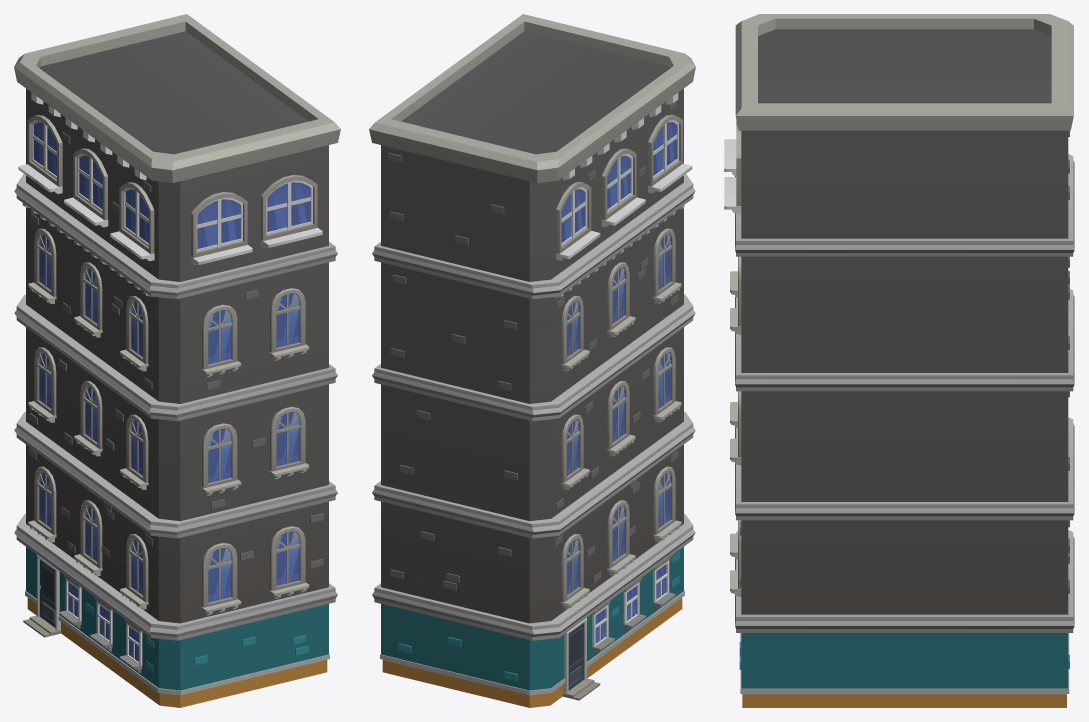
Rendered from Building_18_1_A.fbx.
3 renders of one model, left to right at view 1: azimuth 30°, elevation 25°; view 2: azimuth 150°, elevation 25°; view 3: azimuth 270°, elevation 25°, orthographic. The views are drawn at different scales.
Parts seen in each view (by area): view 1: Building_18_1_A; view 2: Building_18_1_A; view 3: Building_18_1_A.
Boxes of the visible parts, x1,y1,x2,y2 form: Building_18_1_A: (14,14,340,707); Building_18_1_A: (369,14,695,707); Building_18_1_A: (724,14,1074,707).
Bounding box in the file's own units: 719 × 2014 × 1059.
